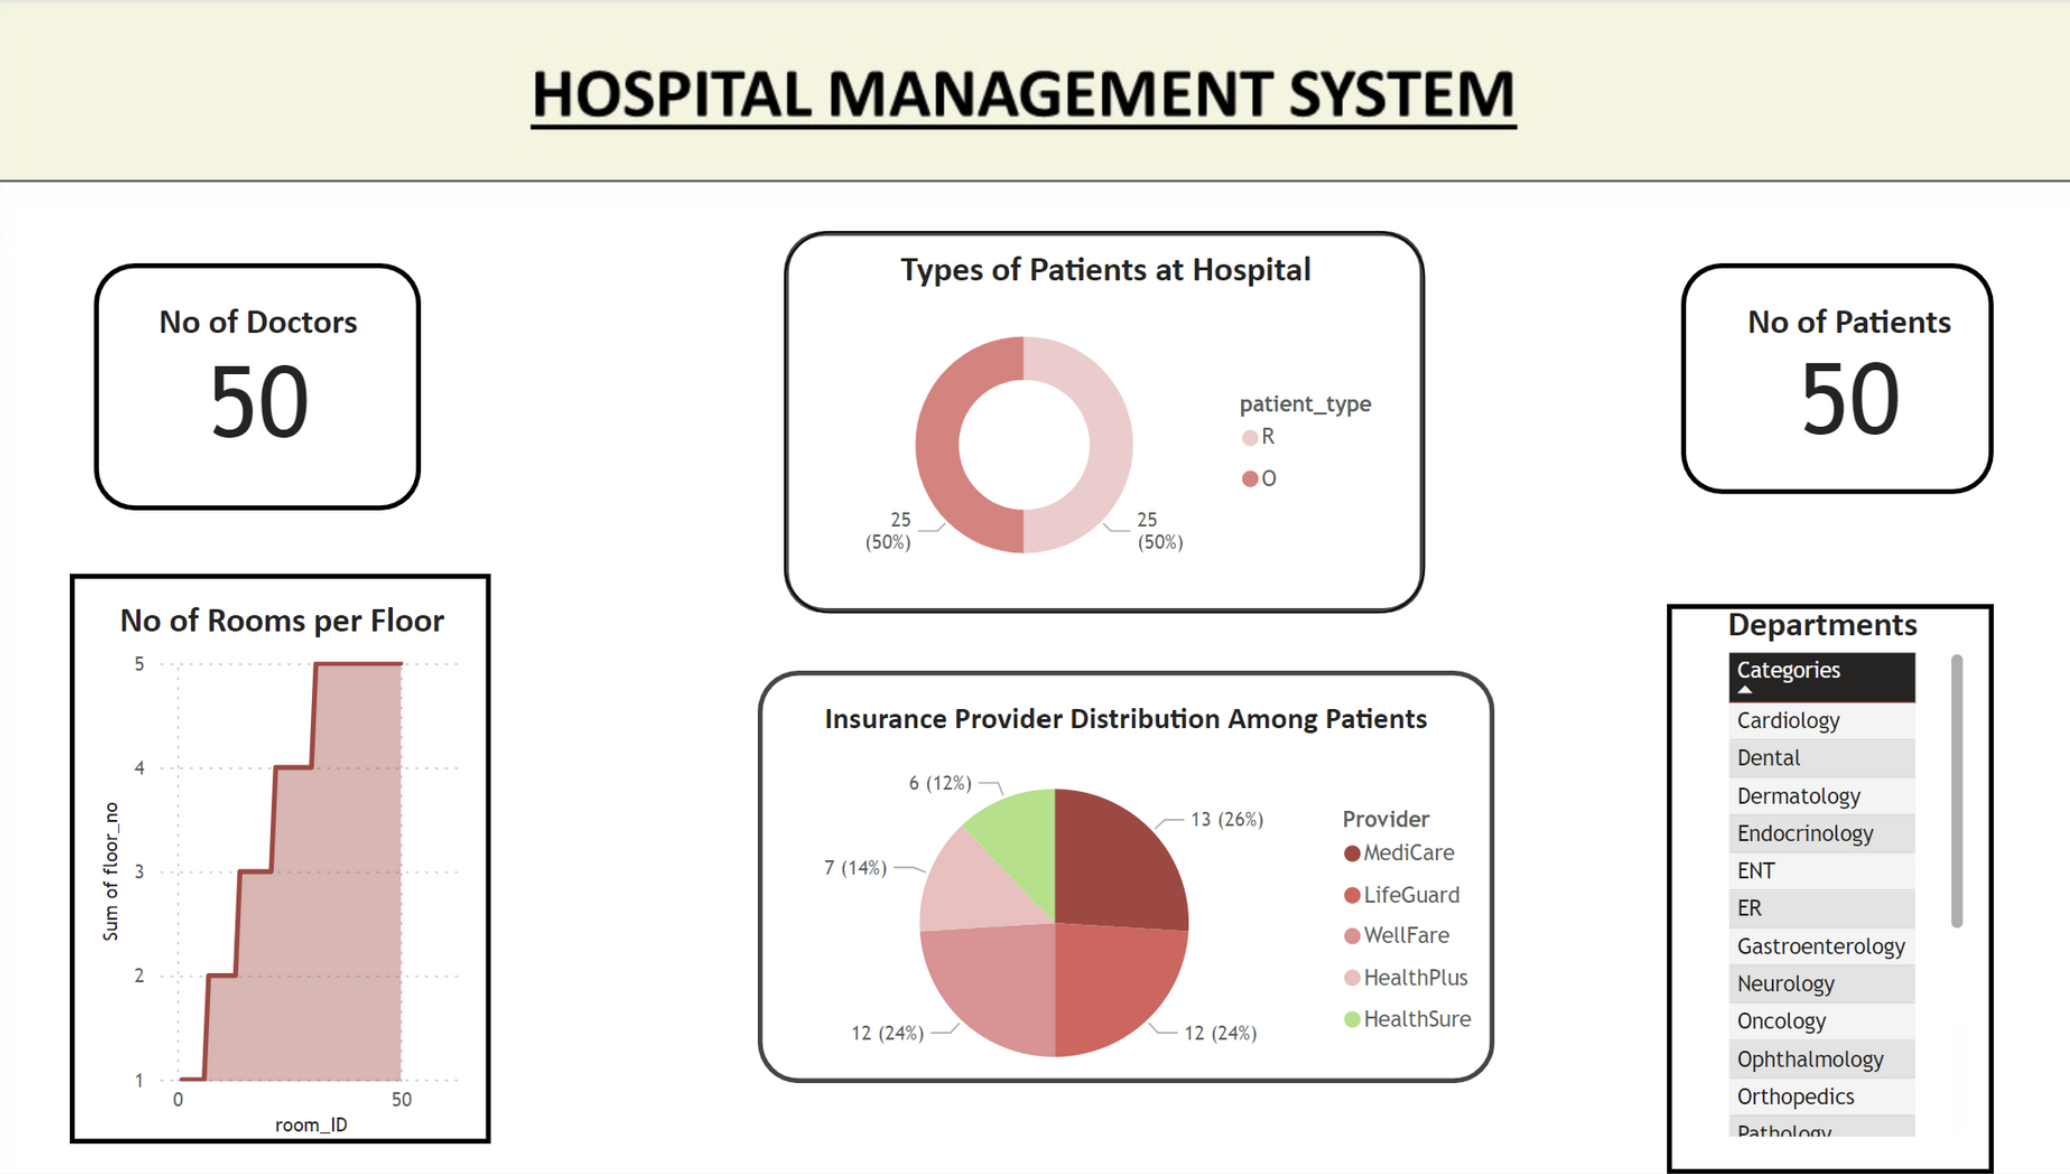

This screenshot's page, from the dashboard's own definition file:
{"tool":"powerbi","page":{"name":"Page 1","canvas":[1280,720],"ordinal":0},"visuals":[{"type":"card","title":"No of Patients ","fields":{"Values":["Count(Patient)"]},"box":[1040,185,191.2,107.5],"z":0},{"type":"donutChart","title":"Types of Patients at Hospital","fields":{"Category":["Patient.patient_type"],"Y":["CountNonNull(Patient.patient_ID)"]},"box":[485,143.8,391.2,233.8],"z":1000},{"type":"shape","box":[485,143.8,391.2,233.8],"z":2000},{"type":"shape","box":[1033.8,162.5,191.2,141.2],"z":3000},{"type":"shape","box":[62.5,162.5,200,151.2],"z":4000},{"type":"tableEx","title":"Departments ","fields":{"Values":["Department.name"]},"box":[1056.2,370,155,331.2],"z":5000},{"type":"card","title":"No of Doctors","fields":{"Values":["Count(Doctor)"]},"box":[82.5,185,161.2,108.8],"z":7000},{"type":"pieChart","title":"Insurance Provider Distribution Among Patients","fields":{"Category":["Insurance.provider"],"Y":["Count(Insurance.patient_ID)"]},"box":[468.8,430,450,251.2],"z":8000},{"type":"shape","box":[468.8,412.5,450,252.5],"z":9000},{"type":"shape","box":[1025,371.2,200,348.8],"z":10000},{"type":"stackedAreaChart","title":"No of Rooms per Floor","fields":{"Category":["Room.room_ID"],"Y":["Sum(Room.floor_no)"]},"box":[62.5,367.5,230,333.8],"z":10001},{"type":"shape","box":[48.8,352.5,257.5,348.8],"z":10002}]}

Visuals, with their boxes in screenshot pixels (x1, y1, x2, y2), scaled from the page's 1280x720 canvas onto the 2070x1174 screenshot:
"No of Patients " card: bbox=[1682, 302, 1991, 477]
"Types of Patients at Hospital" donutChart: bbox=[784, 234, 1417, 616]
shape: bbox=[784, 234, 1417, 616]
shape: bbox=[1672, 265, 1981, 495]
shape: bbox=[101, 265, 425, 512]
"Departments " tableEx: bbox=[1708, 603, 1959, 1143]
"No of Doctors" card: bbox=[133, 302, 394, 479]
"Insurance Provider Distribution Among Patients" pieChart: bbox=[758, 701, 1486, 1111]
shape: bbox=[758, 673, 1486, 1084]
shape: bbox=[1658, 605, 1981, 1173]
"No of Rooms per Floor" stackedAreaChart: bbox=[101, 599, 473, 1144]
shape: bbox=[79, 575, 495, 1144]
